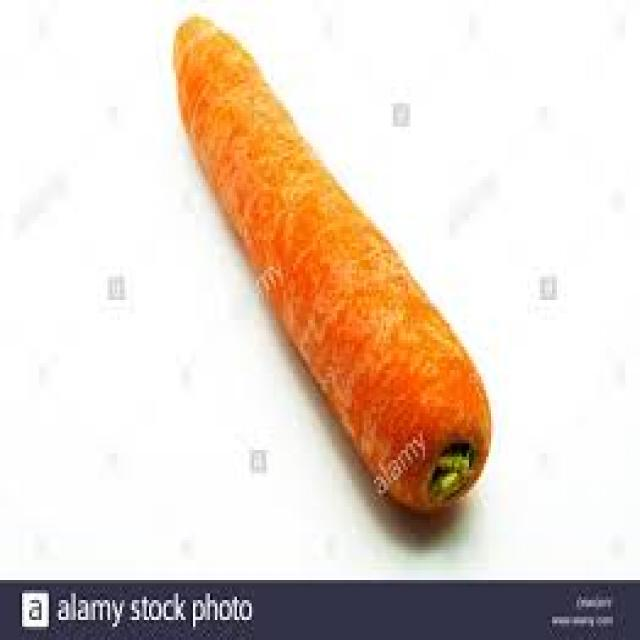organic waste: (174, 14, 488, 514)
